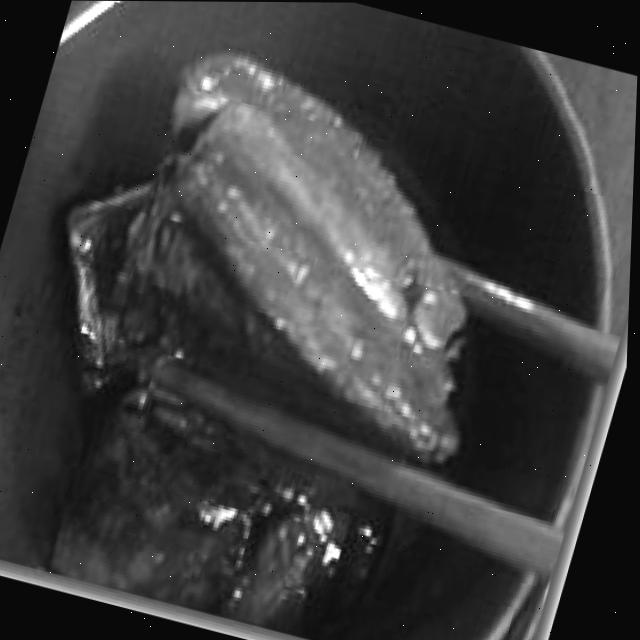猪肉菜式: (18, 59, 638, 640)
